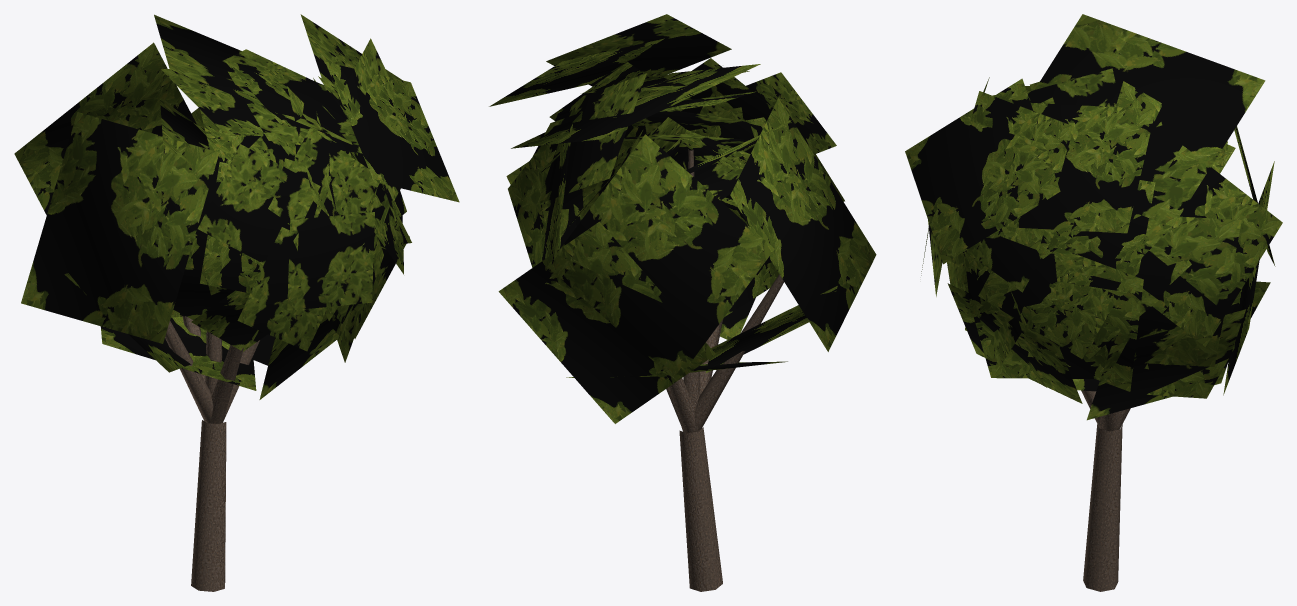
Rendered from tree_round.glb.
The picture shows the model from 3 angles, left to right: view 1: azimuth 30°, elevation 25°; view 2: azimuth 150°, elevation 25°; view 3: azimuth 270°, elevation 25°; orthographic projection. The views are drawn at different scales.
Parts seen in each view (by area): view 1: tree_round_foliage, tree_round_body; view 2: tree_round_foliage, tree_round_body; view 3: tree_round_foliage, tree_round_body.
Part boxes in pixels (x1=…): tree_round_foliage: x1=14, y1=14, x2=459, y2=399; tree_round_body: x1=165, y1=316, x2=259, y2=591; tree_round_foliage: x1=489, y1=14, x2=876, y2=423; tree_round_body: x1=666, y1=149, x2=783, y2=591; tree_round_foliage: x1=905, y1=14, x2=1282, y2=420; tree_round_body: x1=1081, y1=390, x2=1130, y2=591.
Size of the model in its own units: 0.2855 by 0.4017 by 0.2517.
Materials: 2 (2 with a texture image).
